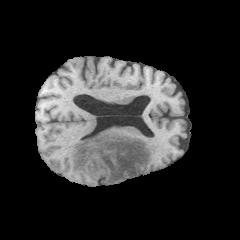glioma: (69, 130, 149, 182)
